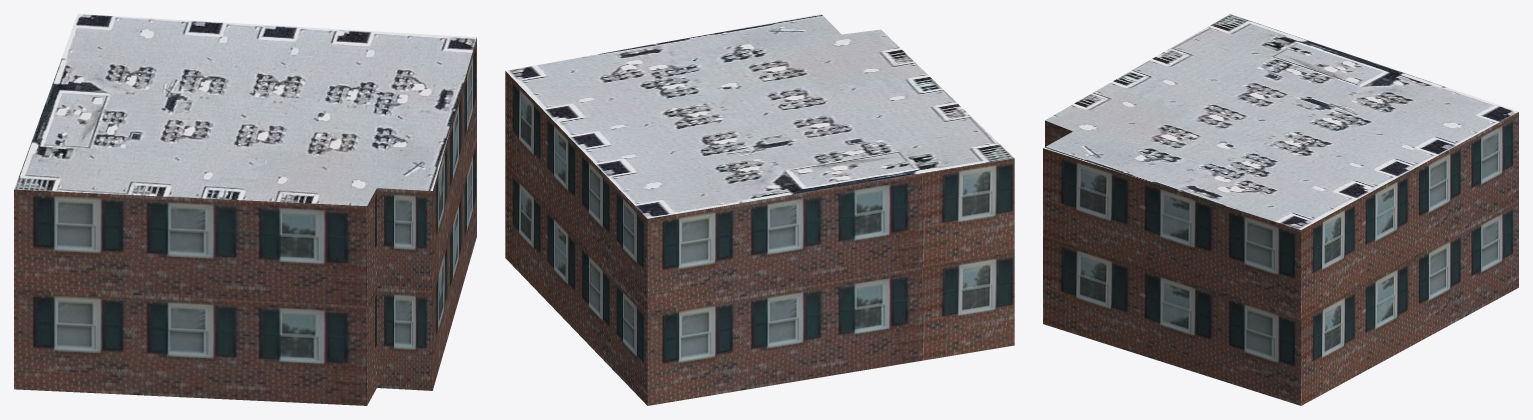
The model's file is ResTex__3528.fbx.
3 views of the same model, side by side, from view 1: azimuth 30°, elevation 25°; view 2: azimuth 150°, elevation 25°; view 3: azimuth 270°, elevation 25° (orthographic). The views are drawn at different scales.
Visible parts, largest first — view 1: CityEngineMaterial_14_m, CityEngineMaterial_2_m; view 2: CityEngineMaterial_14_m, CityEngineMaterial_2_m; view 3: CityEngineMaterial_14_m, CityEngineMaterial_2_m.
Boxes of the visible parts, x1,y1,x2,y2 form: CityEngineMaterial_14_m: (14, 37, 476, 405); CityEngineMaterial_2_m: (14, 14, 476, 206); CityEngineMaterial_14_m: (505, 71, 1014, 405); CityEngineMaterial_2_m: (506, 14, 1013, 218); CityEngineMaterial_14_m: (1043, 112, 1518, 405); CityEngineMaterial_2_m: (1043, 14, 1518, 229).
Size of the model in its own units: 15.81 by 6 by 14.71.
Materials: 2 (2 with a texture image).
